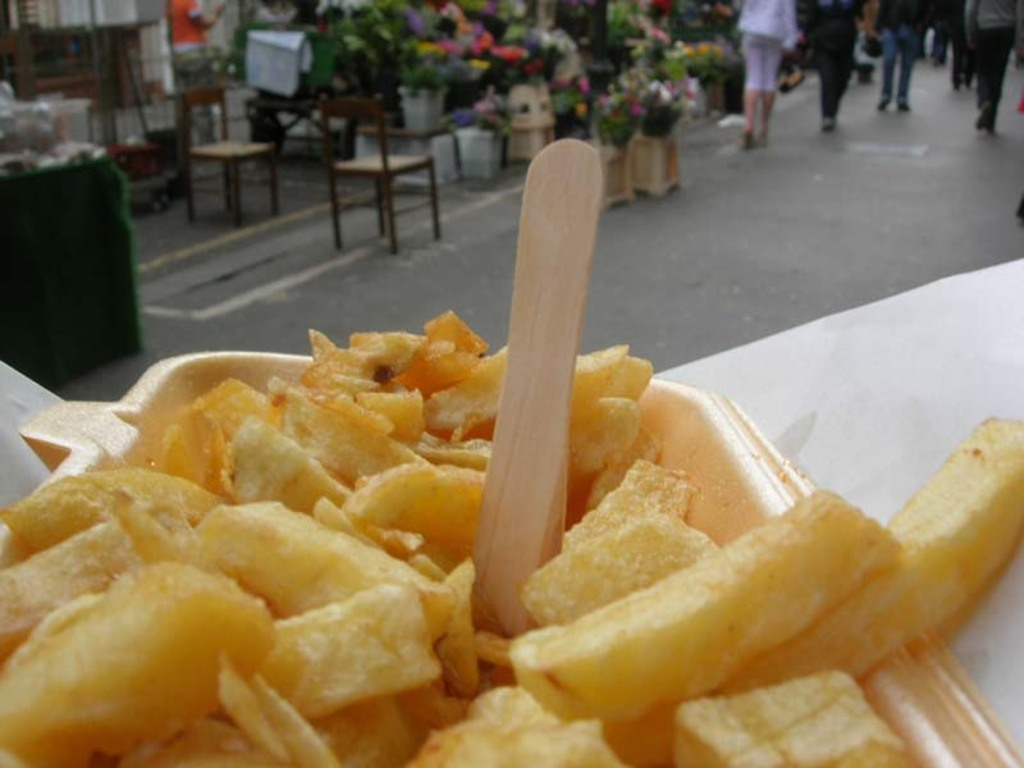French fries: (0, 291, 1022, 766)
